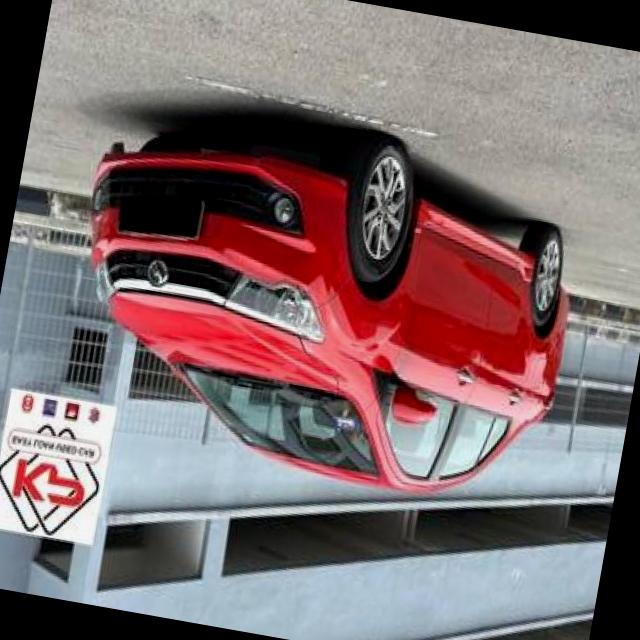PeroduaBezza: (46, 84, 596, 520)
